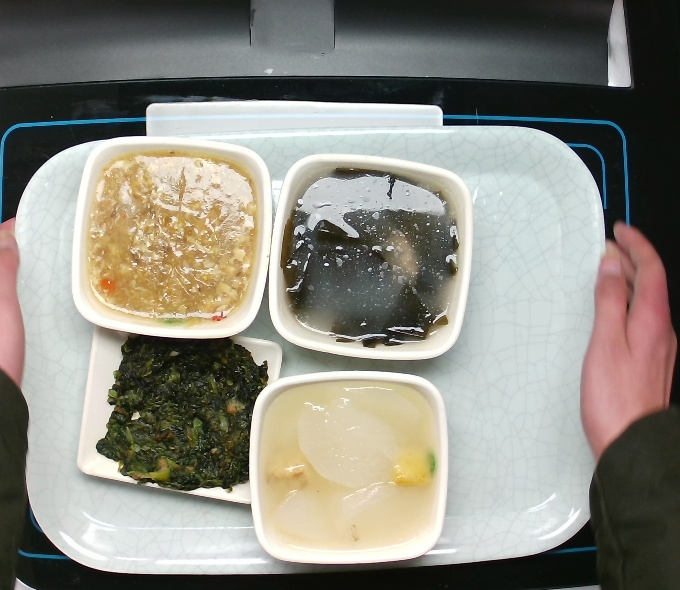wcq-HaiDaiPaiGuTang: (276, 165, 464, 356)
wcq-LuoBoYouPaoTang: (254, 379, 443, 551)
wcq-QinCaiBing: (98, 327, 270, 500)
wcq-SuanLaGeng: (84, 148, 263, 327)
